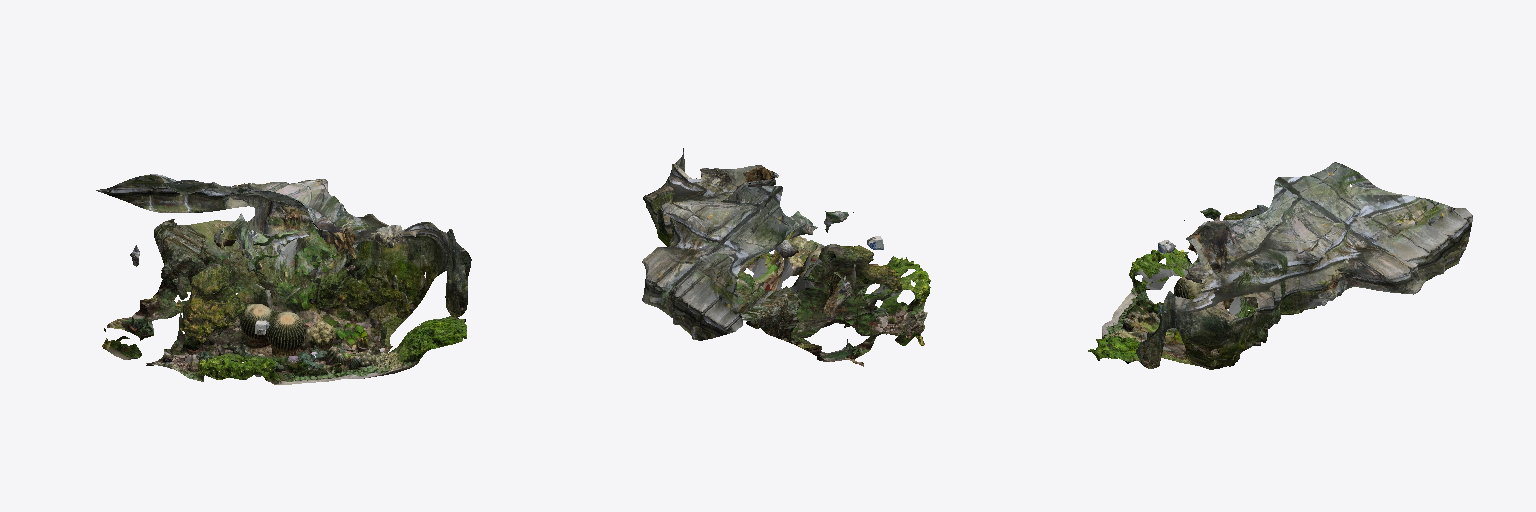
3 views of the same model, side by side, from view 1: azimuth 30°, elevation 25°; view 2: azimuth 150°, elevation 25°; view 3: azimuth 270°, elevation 25° (orthographic).
Size of the model in its own units: 37.77 by 16.7 by 40.74.
Materials: 1 (1 with a texture image).